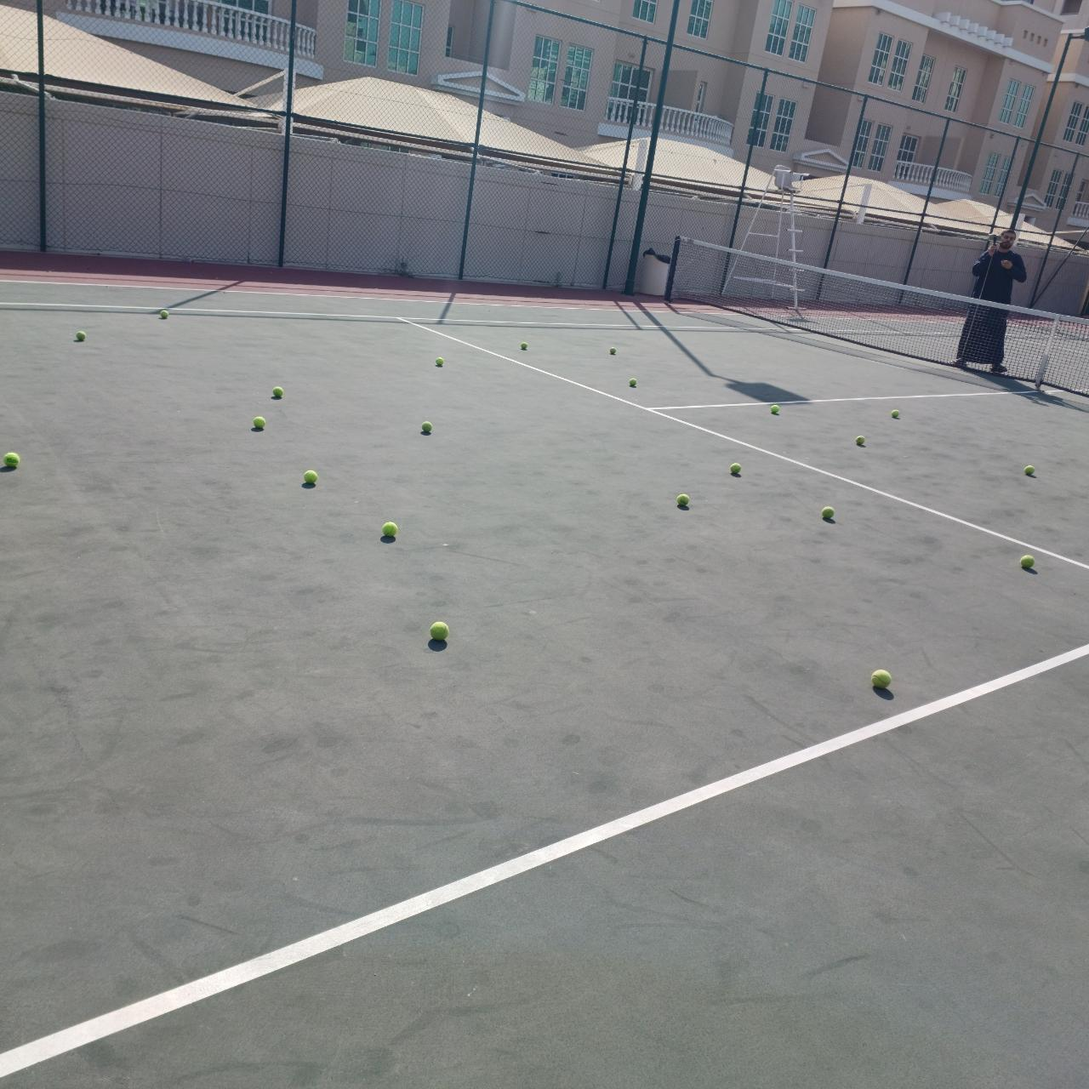tennis-ball: (428, 619, 449, 641), (871, 668, 892, 690), (2, 450, 20, 469), (382, 520, 398, 538), (1020, 554, 1035, 569), (304, 469, 318, 484), (677, 493, 690, 507), (822, 506, 835, 520), (253, 416, 266, 428), (272, 386, 283, 398), (730, 462, 741, 474), (1024, 465, 1035, 476), (422, 420, 432, 432), (76, 330, 86, 341), (856, 435, 865, 445), (160, 310, 169, 319), (771, 404, 779, 414), (436, 357, 444, 366), (609, 346, 617, 355), (629, 378, 637, 387), (891, 409, 899, 418), (520, 342, 528, 350)
